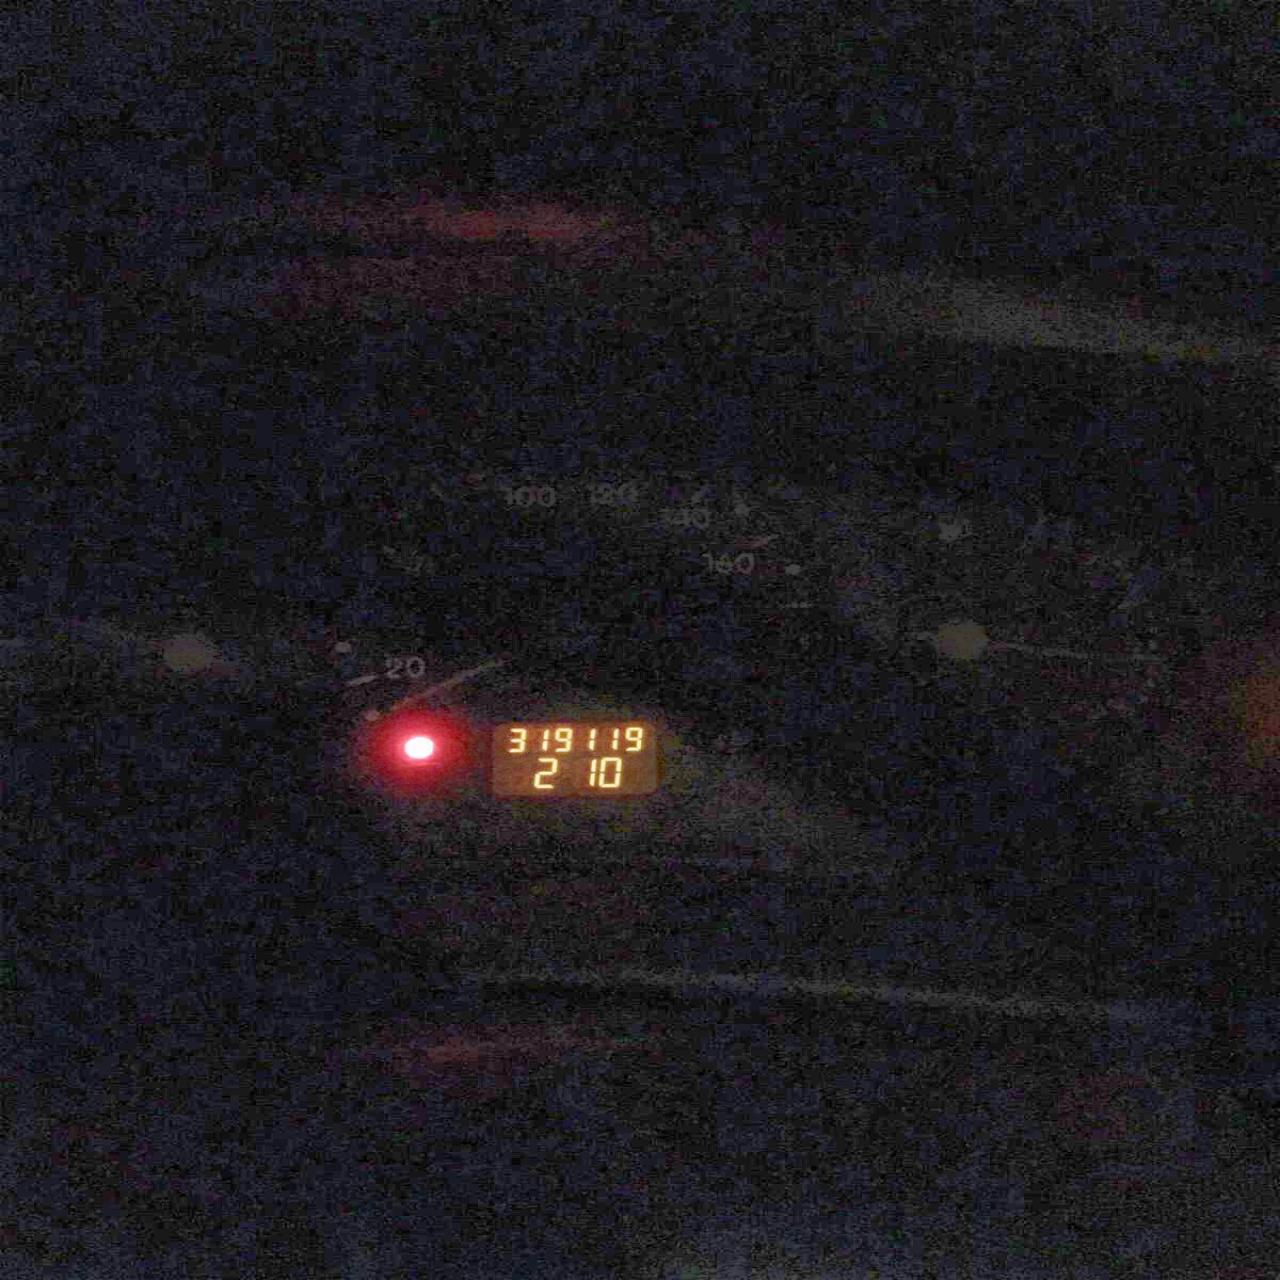0: (598, 756, 621, 787)
1: (587, 757, 597, 787), (540, 728, 549, 751), (611, 727, 619, 750), (587, 728, 595, 750)
2: (532, 757, 558, 788)
3: (508, 727, 526, 753)
9: (552, 727, 572, 751), (622, 727, 642, 750)
odometer: (484, 716, 662, 799)
